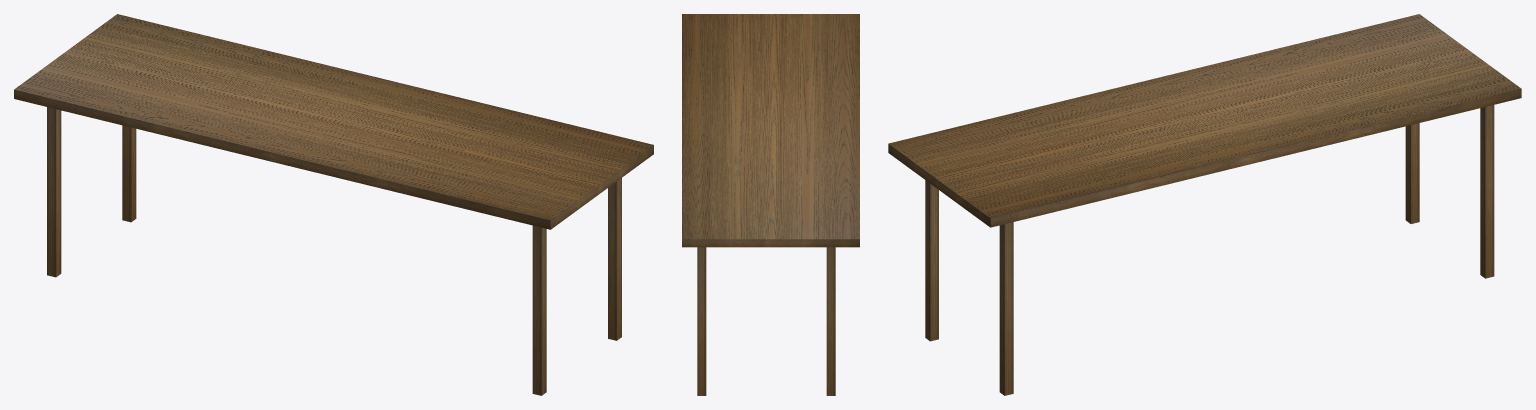
File: Obstacle_011.obj
3 views of the same model, side by side, from view 1: azimuth 30°, elevation 25°; view 2: azimuth 150°, elevation 25°; view 3: azimuth 270°, elevation 25° (orthographic). The views are drawn at different scales.
Parts seen in each view (by area): view 1: Box116; view 2: Box116; view 3: Box116.
Boxes of the visible parts, bbox=[...] form: Box116: bbox=[14, 14, 653, 395]; Box116: bbox=[682, 14, 859, 395]; Box116: bbox=[888, 14, 1521, 395].
Size of the model in its own units: 93.15 by 40.27 by 122.
